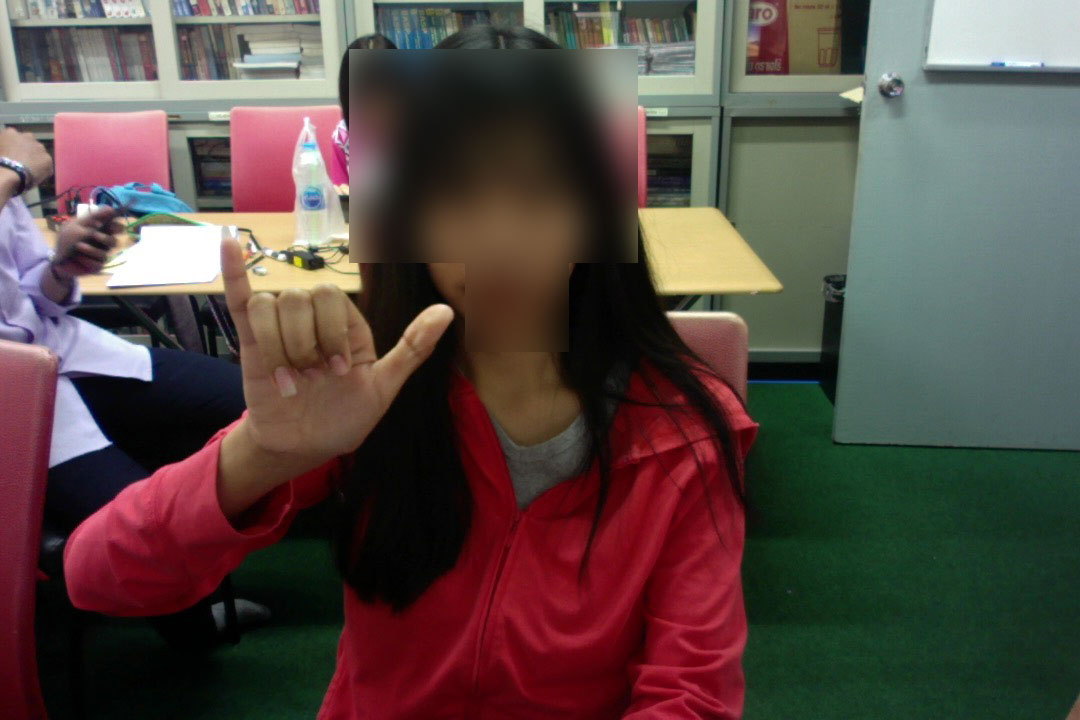yor: (209, 229, 464, 482)
